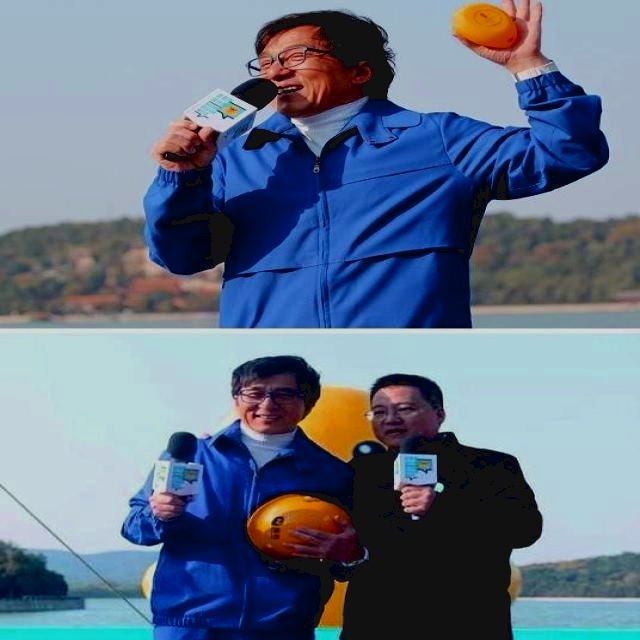Sin_Casco_Mascarrilla: (242, 2, 393, 112), (363, 372, 449, 432)
Sin_Chaleco: (143, 426, 342, 636), (354, 444, 521, 640)
